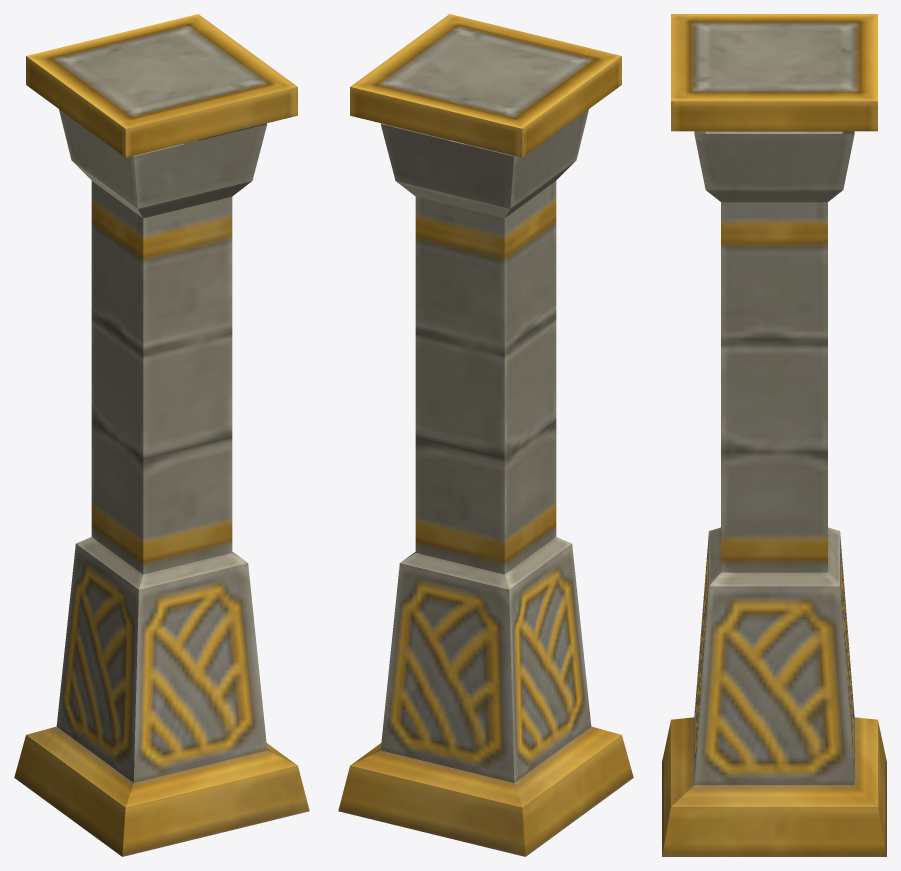
Rendered from all_mine_prop_3.FBX.
The picture shows the model from 3 angles, left to right: view 1: azimuth 30°, elevation 25°; view 2: azimuth 150°, elevation 25°; view 3: azimuth 270°, elevation 25°; orthographic projection. The views are drawn at different scales.
Parts seen in each view (by area): view 1: all_mine_prop_3; view 2: all_mine_prop_3; view 3: all_mine_prop_3.
Boxes of the visible parts, x1=… form: all_mine_prop_3: x1=14, y1=14, x2=309, y2=856; all_mine_prop_3: x1=338, y1=14, x2=633, y2=856; all_mine_prop_3: x1=662, y1=14, x2=886, y2=856.
Size of the model in its own units: 36.12 by 133 by 36.12.
